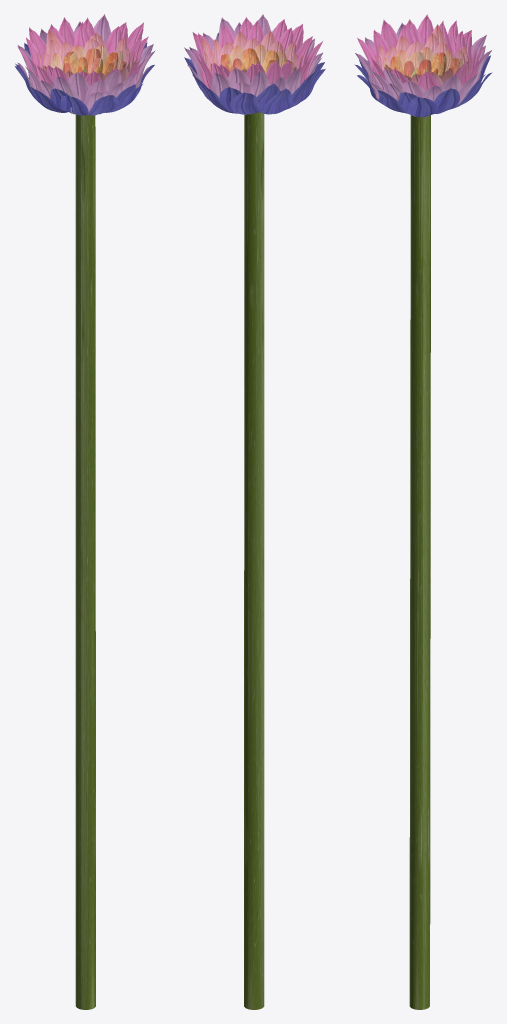
Rendered from flor_06.fbx.
3 renders of one model, left to right at view 1: azimuth 30°, elevation 25°; view 2: azimuth 210°, elevation 25°; view 3: azimuth 330°, elevation 25°, orthographic.
Visible parts, largest first — view 1: Plane.068; view 2: Plane.068; view 3: Plane.068.
Boxes of the visible parts, x1,y1,x2,y2 form: Plane.068: (15, 14, 155, 1009); Plane.068: (184, 14, 325, 1009); Plane.068: (354, 14, 492, 1009).
Bounding box in the file's own units: 72.62 × 546 × 68.21.
Materials: 2 (2 with a texture image).
